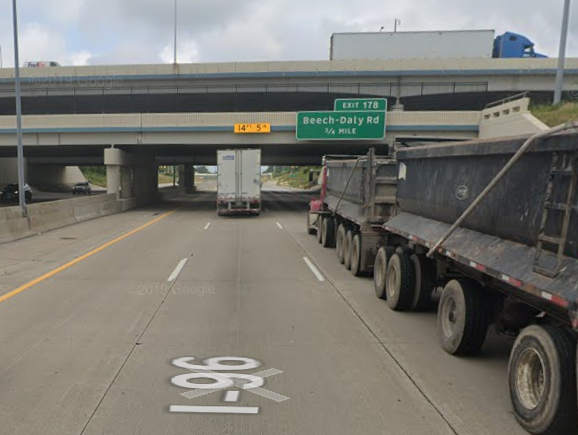1: (235, 123, 242, 134)
4: (240, 123, 247, 134)
5: (254, 123, 263, 134)
overheadsign: (234, 123, 272, 134)
